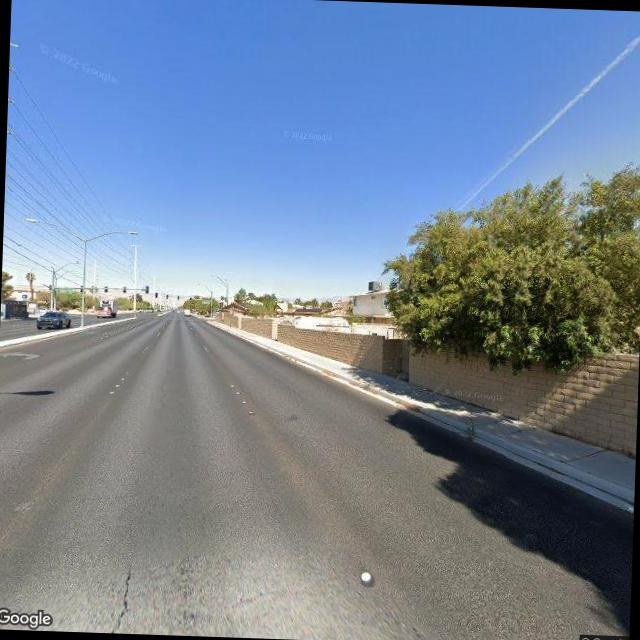pothole: (101, 564, 136, 632)
